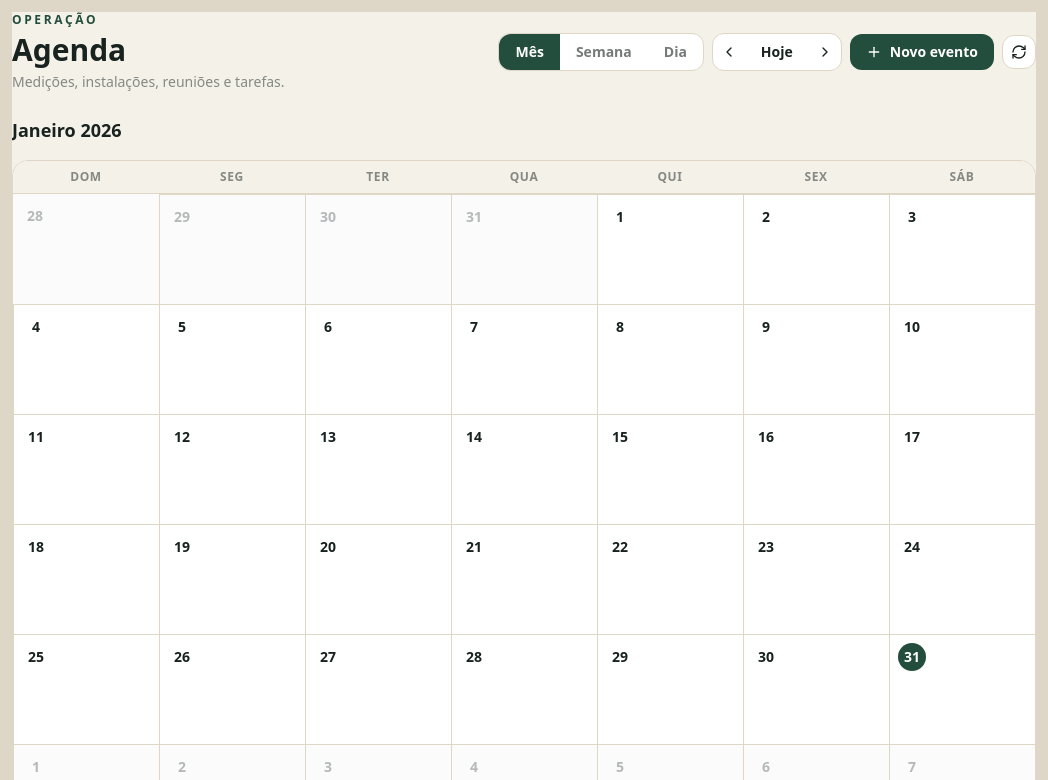
Test: agenda month navigation does not skip February from January 31
The image size is (1048, 780).
Click the button named "Próximo período". click: (825, 52)
box: [809,36,841,68]
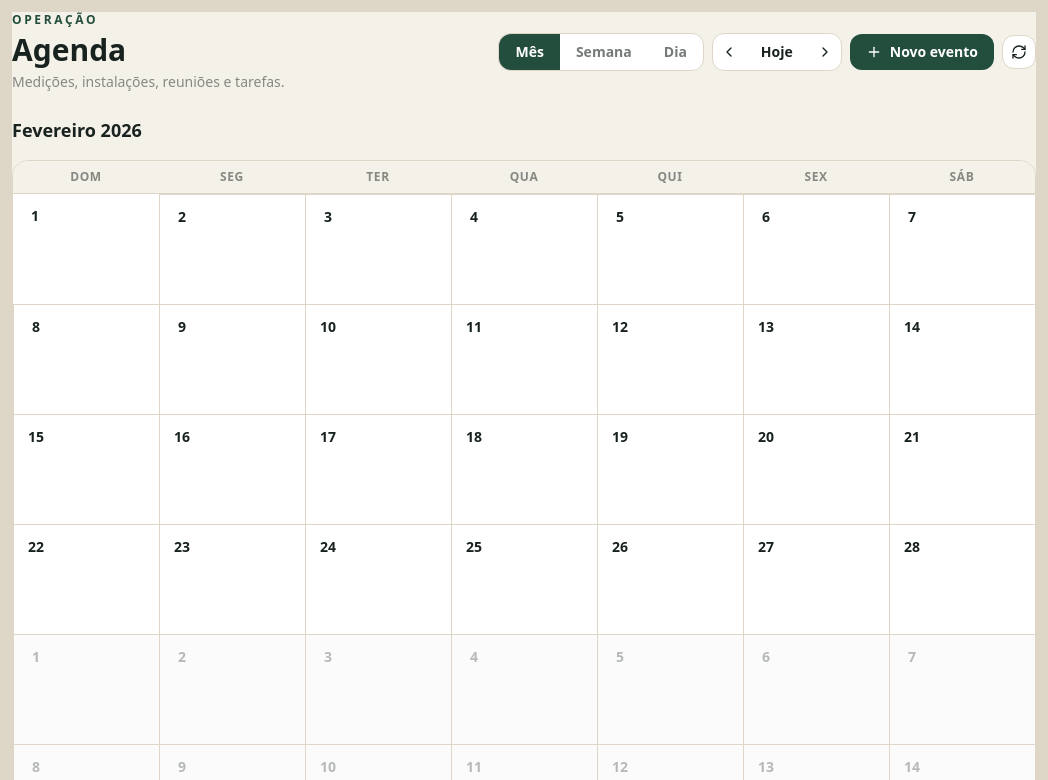
Expected: the text "Fevereiro 2026" is shown, [12,118,142,142]
